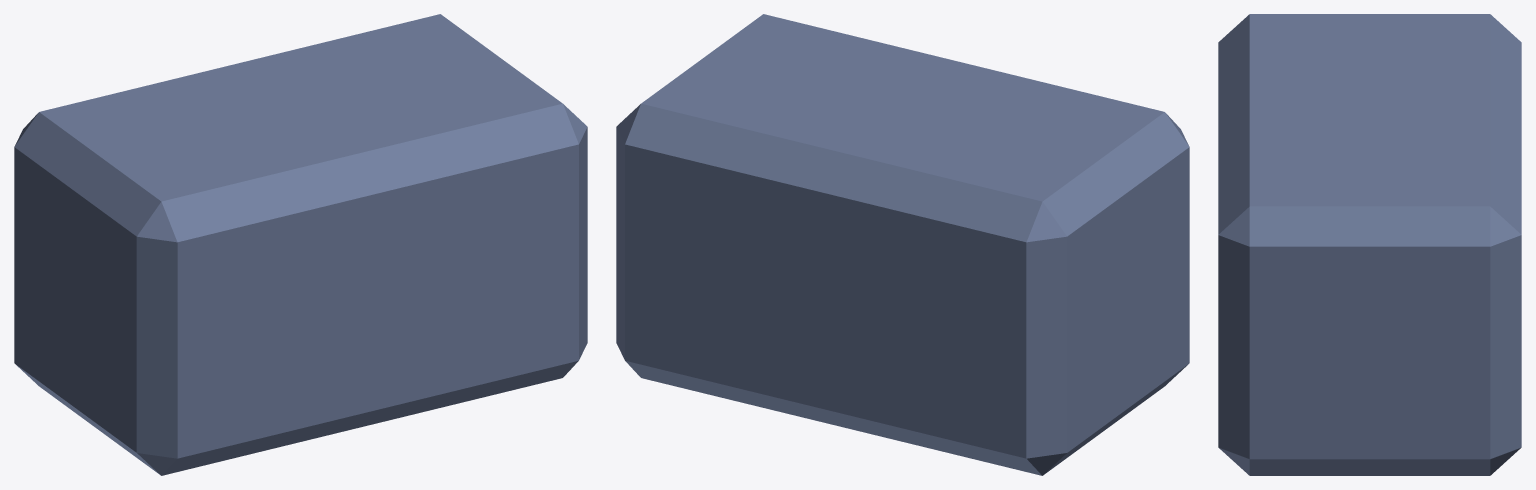
File: brick.glb
3 views of the same model, side by side, from view 1: azimuth 30°, elevation 25°; view 2: azimuth 150°, elevation 25°; view 3: azimuth 270°, elevation 25° (orthographic).
Visible parts, largest first — view 1: brick; view 2: brick; view 3: brick.
Part boxes in pixels (x1,y1,x2,y2): brick: [14, 14, 587, 475]; brick: [616, 14, 1189, 475]; brick: [1218, 14, 1521, 475].
Bounding box in the file's own units: 2 × 1.16 × 1.19.
